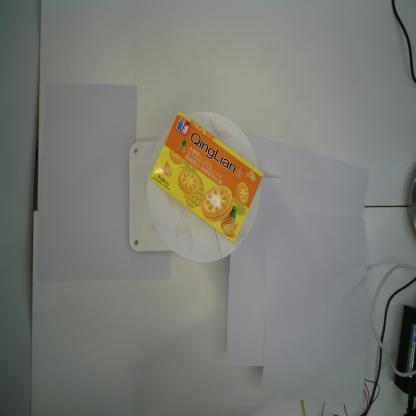Dessert: (149, 110, 266, 245)
